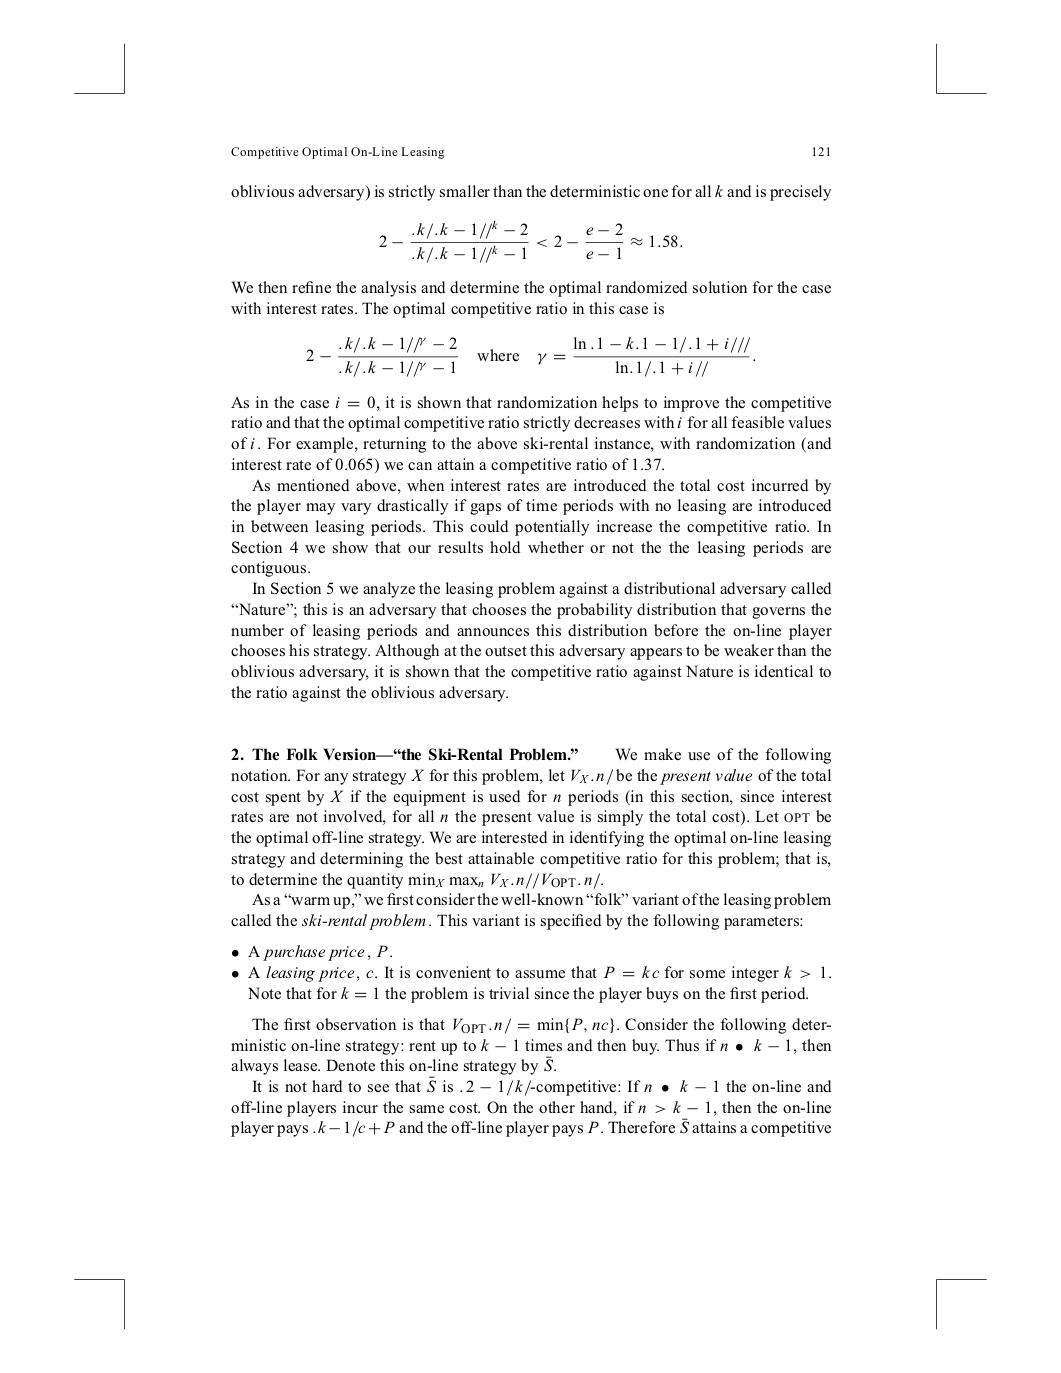formula: (306, 335, 755, 377), (379, 220, 682, 263)
